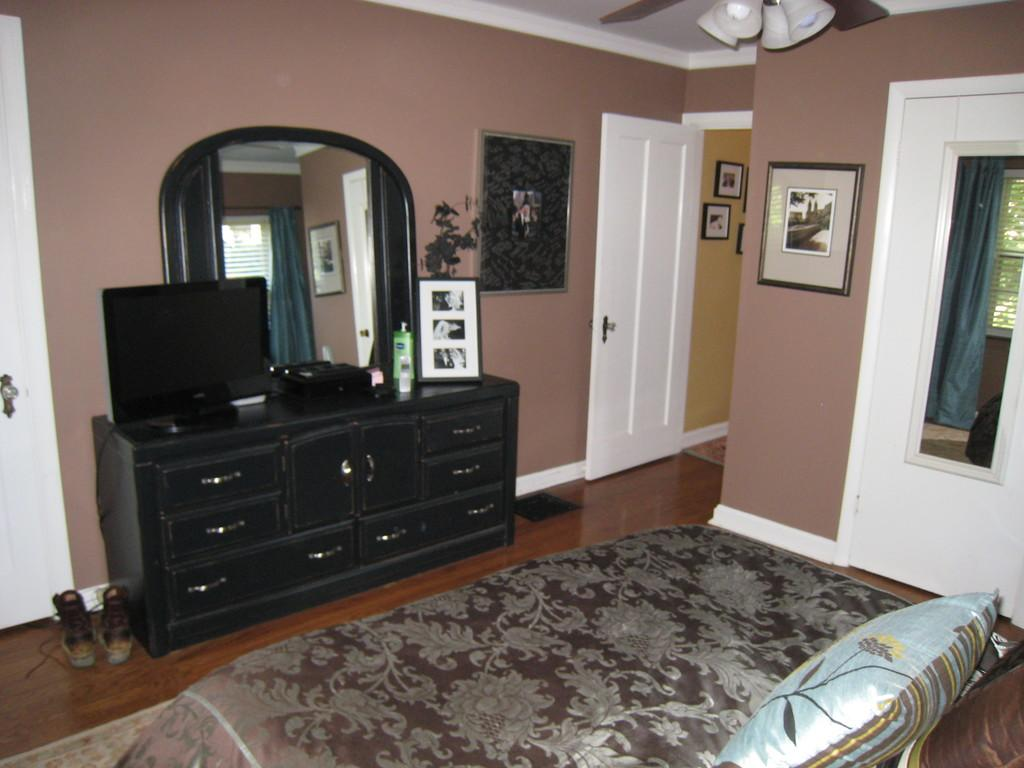cabinet_door: (366, 422, 430, 500), (295, 444, 359, 520), (179, 560, 345, 586), (170, 463, 276, 495), (371, 514, 483, 544), (164, 511, 269, 541), (434, 404, 508, 442), (444, 446, 494, 484)
handle: (200, 465, 243, 492), (184, 573, 230, 593), (447, 422, 487, 444), (313, 545, 347, 566), (205, 520, 248, 536), (338, 457, 356, 494), (2, 380, 22, 410), (466, 498, 496, 517), (378, 528, 408, 544), (449, 465, 479, 480), (361, 455, 376, 482), (599, 321, 621, 339)
